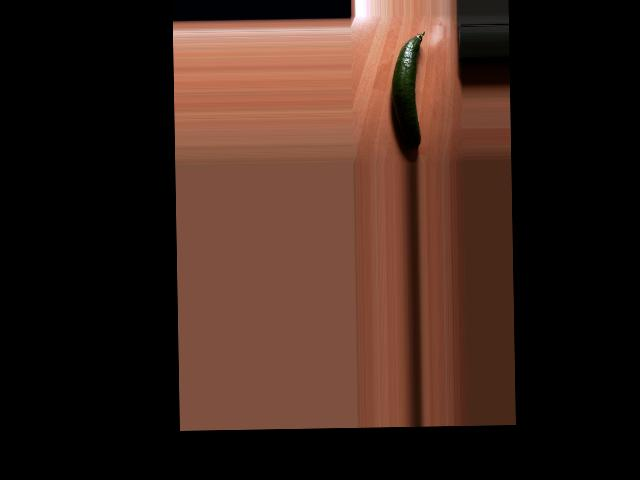cucumber: (390, 30, 426, 150)
